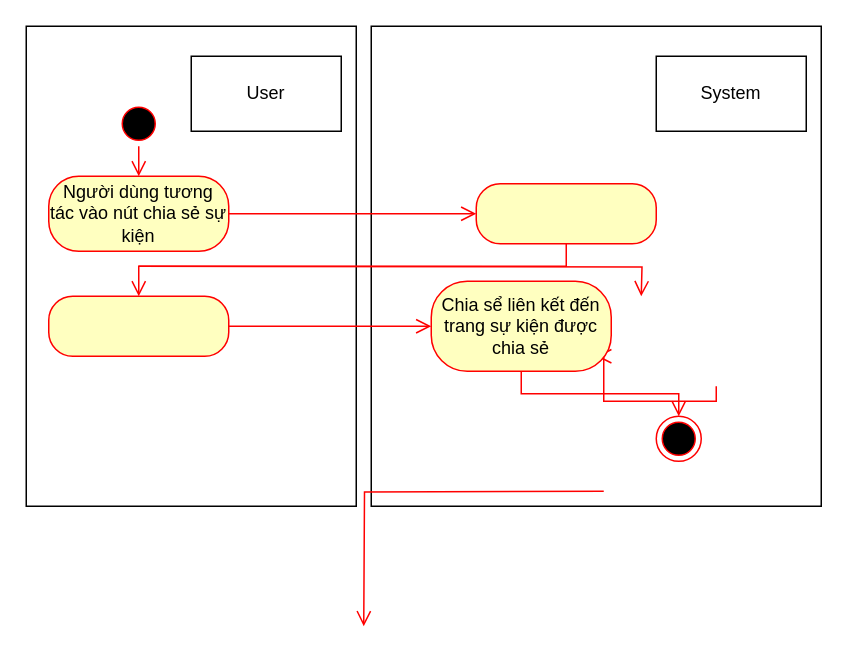
This 848x668 diagram has some shape labels left out. The shapes that lost their labels are listed below. From the top down, each one's box as (x1, y1, x2, y2) in pixels, then its label:
(475, 182, 656, 244): Mở hộp thoại chia sẻ
(47, 295, 229, 356): Lựa chọn các nơi để chia sẻ
